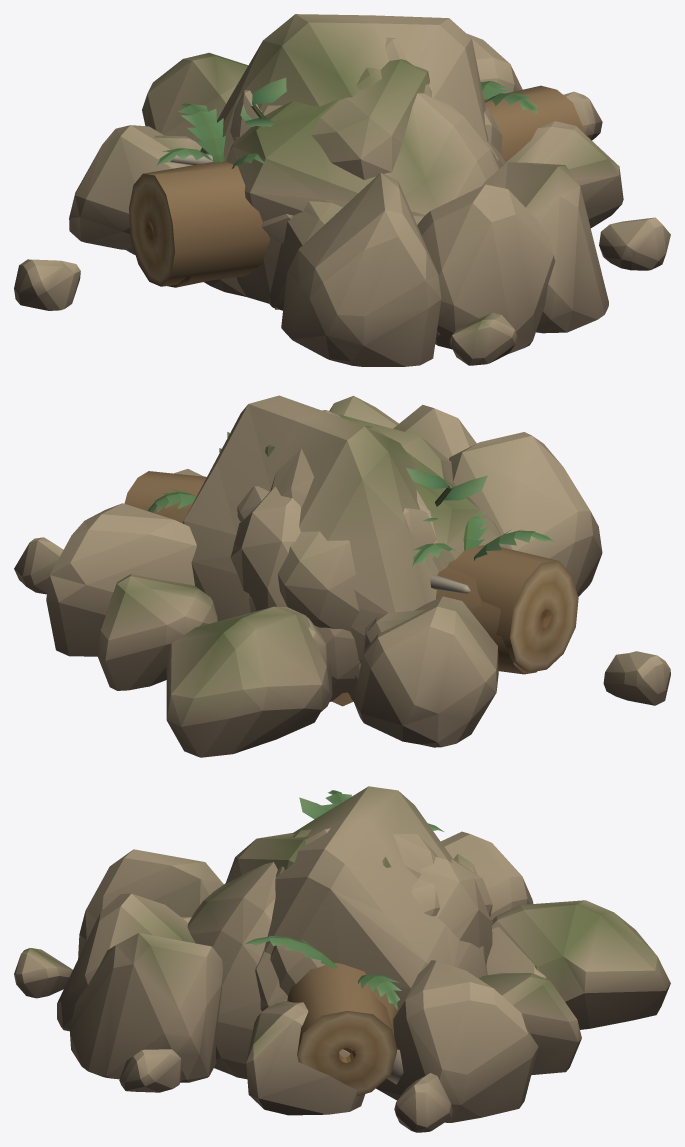
The model's file is rocks.glb.
The picture shows the model from 3 angles, top to bottom: view 1: azimuth 30°, elevation 25°; view 2: azimuth 150°, elevation 25°; view 3: azimuth 270°, elevation 25°; orthographic projection. The views are drawn at different scales.
Visible parts, largest first — view 1: boulders_1__matte, rockl_0__matte, boulders_0__matte, boulders_2__matte, log_2__matte, rockl_3__matte, rockl_2__matte, log_3__foliage, stump_2__foliage, log_1__foliage; view 2: boulders_1__matte, rockl_3__matte, boulders_0__matte, log_2__matte, rockl_0__matte, rockl_1__matte, boulders_2__matte, log_3__foliage, log_3__matte, stump_2__foliage, rockl_2__matte, log_1__matte (+1 smaller); view 3: boulders_1__matte, rockl_3__matte, boulders_2__matte, rockl_0__matte, boulders_0__matte, log_2__matte, rockl_1__matte, log_1__foliage.
Part boxes in pixels (box(x1,y1,x2,y2)): boulders_1__matte: box(69, 33, 670, 366); rockl_0__matte: box(227, 67, 623, 303); boulders_0__matte: box(14, 52, 555, 353); boulders_2__matte: box(126, 59, 608, 333); log_2__matte: box(129, 85, 583, 286); rockl_3__matte: box(200, 14, 488, 296); rockl_2__matte: box(230, 90, 440, 336); log_3__foliage: box(156, 103, 264, 168); stump_2__foliage: box(240, 77, 286, 126); log_1__foliage: box(480, 80, 537, 114); boulders_1__matte: box(46, 410, 602, 747); rockl_3__matte: box(97, 395, 438, 690); boulders_0__matte: box(166, 404, 670, 757); log_2__matte: box(124, 471, 578, 672); rockl_0__matte: box(174, 426, 496, 701); rockl_1__matte: box(237, 486, 359, 711); boulders_2__matte: box(14, 395, 453, 654); log_3__foliage: box(412, 512, 555, 567); log_3__matte: box(169, 507, 481, 612); stump_2__foliage: box(406, 468, 487, 521); rockl_2__matte: box(265, 445, 507, 552); log_1__matte: box(471, 598, 502, 640); boulders_1__matte: box(14, 828, 538, 1122); rockl_3__matte: box(264, 786, 581, 1075); boulders_2__matte: box(70, 833, 477, 1132); rockl_0__matte: box(187, 829, 492, 1115); boulders_0__matte: box(57, 893, 670, 1031); log_2__matte: box(287, 963, 396, 1096); rockl_1__matte: box(270, 859, 546, 995); log_1__foliage: box(243, 936, 401, 1009).
Size of the model in its own units: 4.08 by 1.46 by 3.91.
